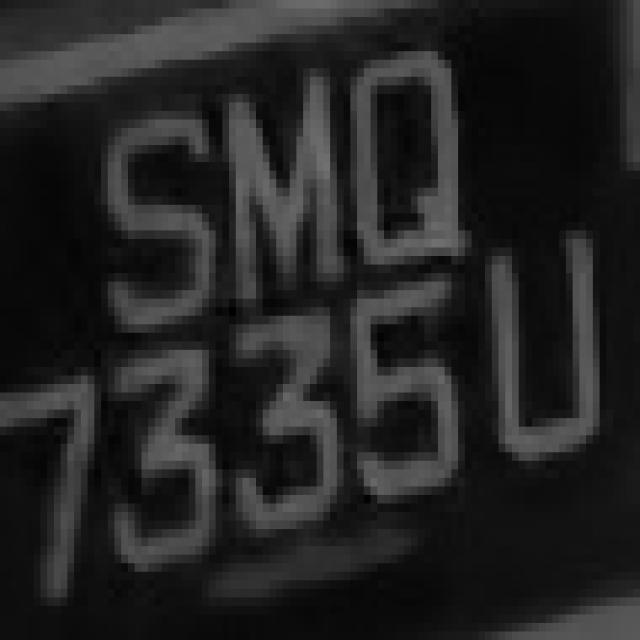3: (108, 307, 236, 580), (236, 298, 364, 554)
5: (323, 265, 465, 512)
7: (0, 4, 1, 8)
M: (188, 51, 344, 290)
Q: (317, 68, 485, 265)
S: (88, 111, 222, 350)
U: (472, 230, 613, 487)
